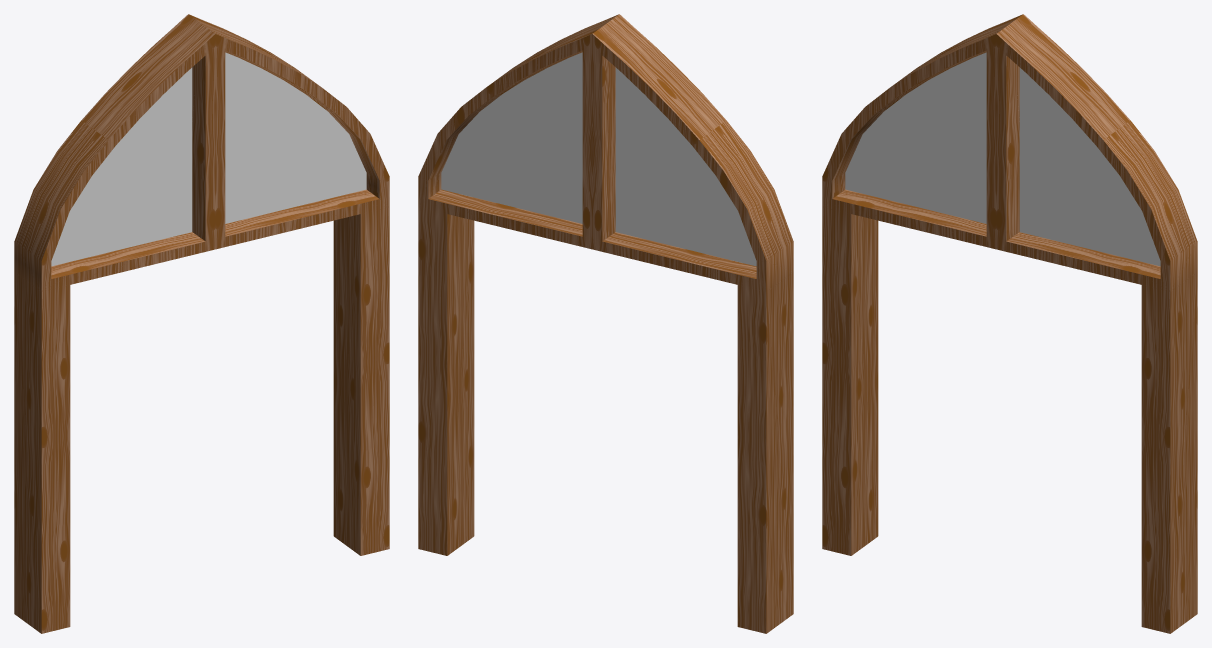
File: DoorFrameGlassed.fbx
3 renders of one model, left to right at view 1: azimuth 30°, elevation 25°; view 2: azimuth 150°, elevation 25°; view 3: azimuth 330°, elevation 25°, orthographic.
Visible parts, largest first — view 1: DoorFrame.002; view 2: DoorFrame.002; view 3: DoorFrame.002.
Part boxes in pixels (bbox=[...]): DoorFrame.002: bbox=[14, 14, 389, 633]; DoorFrame.002: bbox=[418, 14, 793, 633]; DoorFrame.002: bbox=[822, 14, 1197, 633].
Bounding box in the file's own units: 229 × 350 × 30.89.
2 materials, 1 textured.
